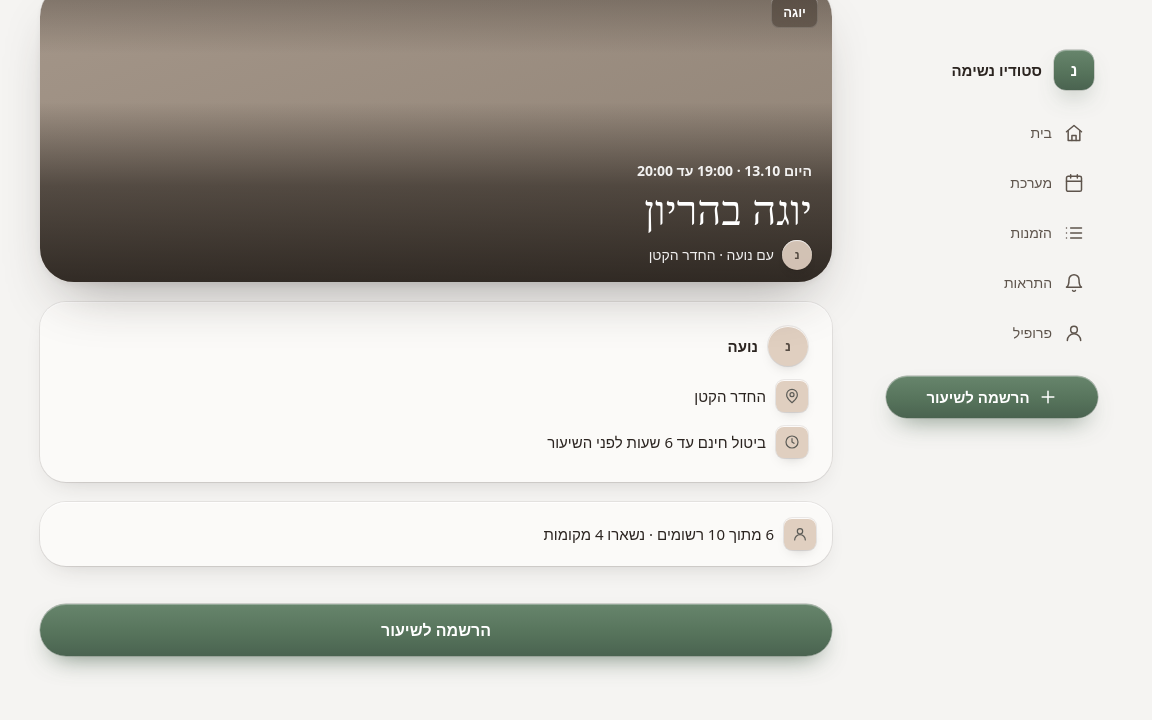
Test: a class and cancelling › keeps her name off when she turned it off before: opening the dialog does not turn it on (SL-8)
(page scrolled)
Click the button "הרשמה לשיעור". click: click(436, 630)
box: [40,604,832,656]
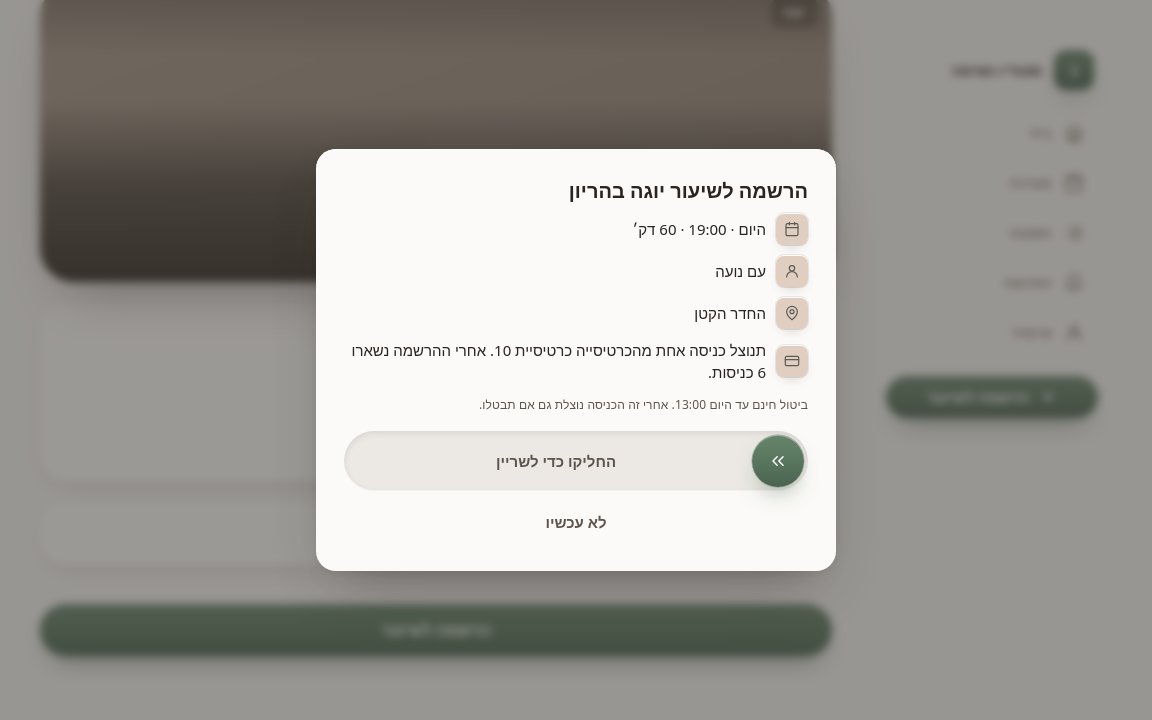
Click the button named "אישור ההרשמה". click: click(778, 461)
box: [752,435,804,487]
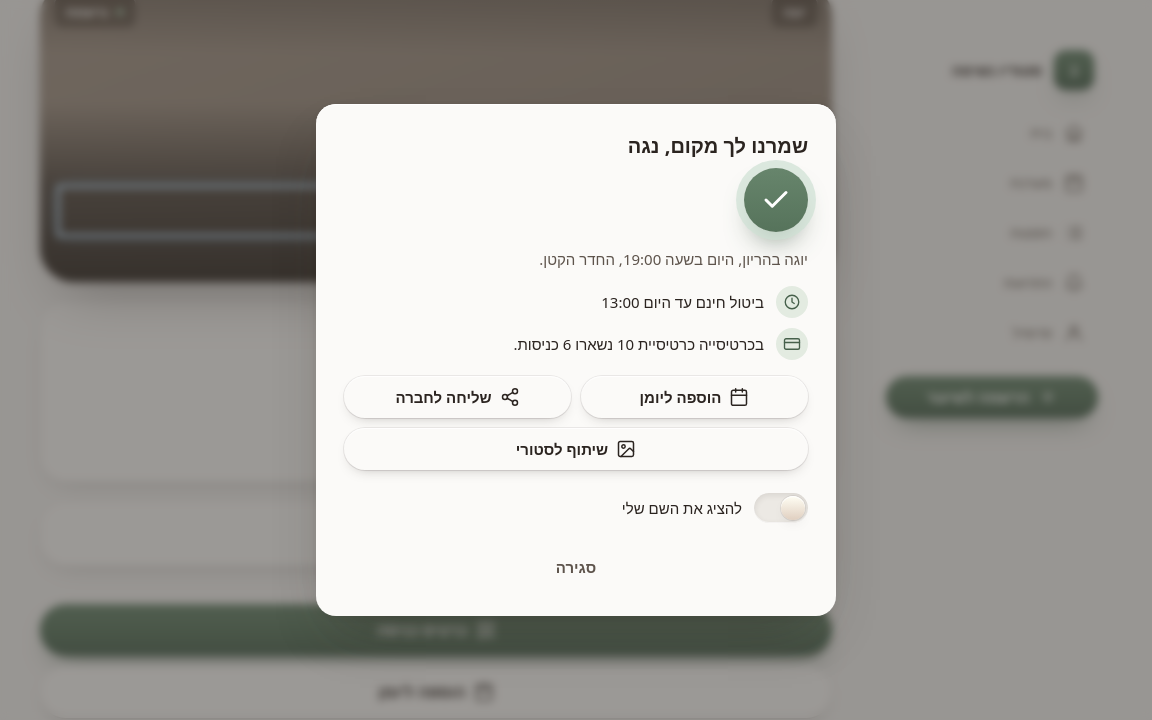
Result: the switch labelled "להציג את השם שלי" is not checked at [622,493,808,523]
Result: the switch labelled "להציג את השם שלי" is enabled at [622,493,808,523]
